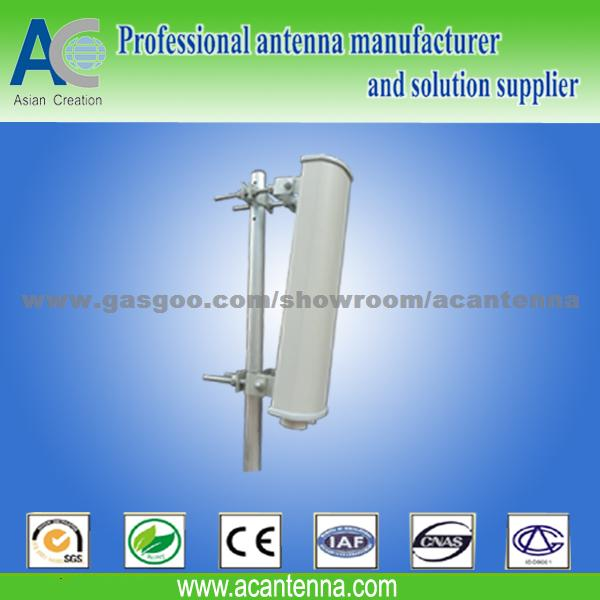sa: (217, 152, 354, 460)
